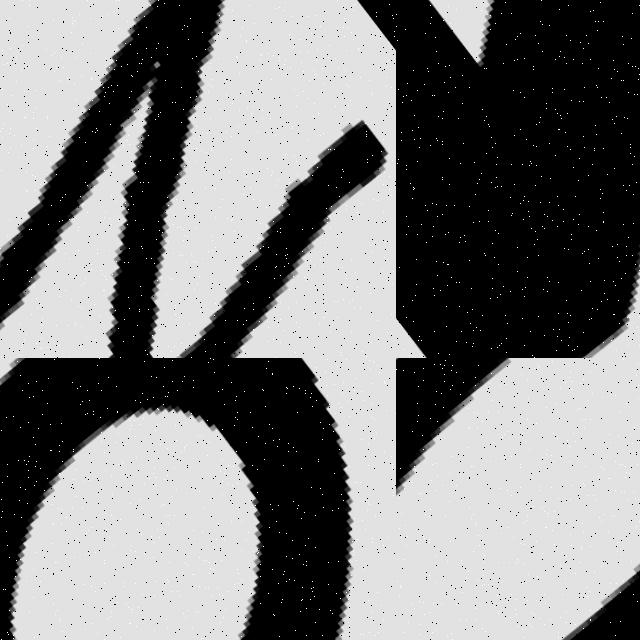H: (0, 0, 224, 358), (180, 124, 392, 358)
O: (396, 358, 640, 640)
Z: (396, 0, 640, 358)
